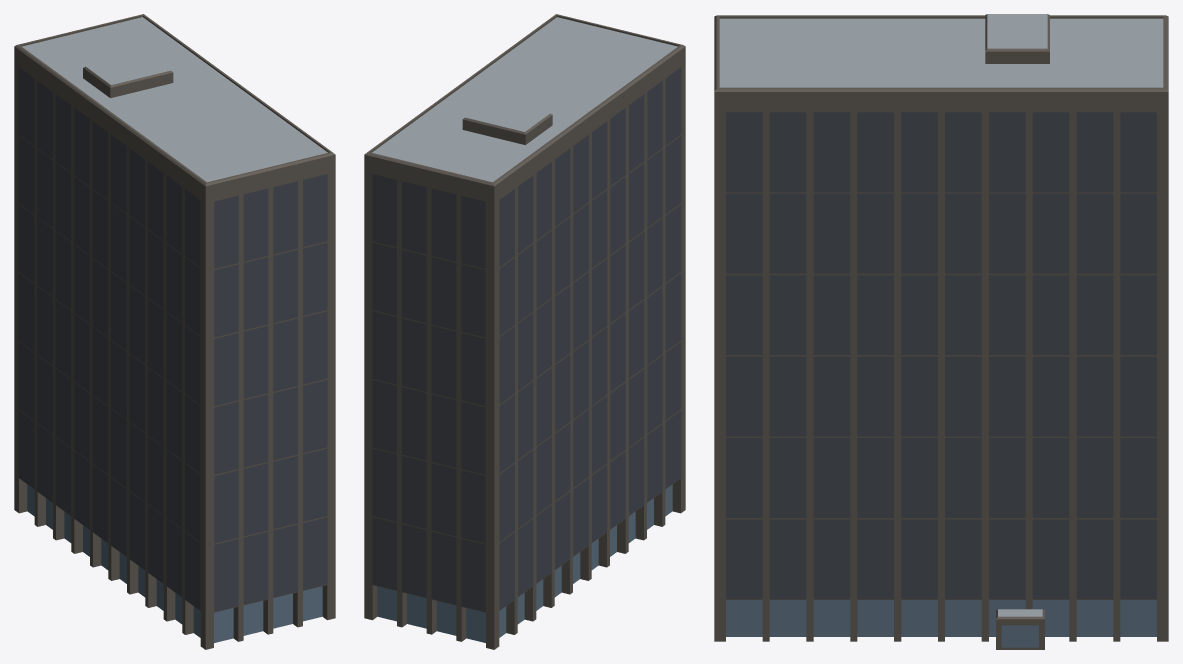
File: cola-tower-at-1301-gervais.glb
The picture shows the model from 3 angles, left to right: view 1: azimuth 30°, elevation 25°; view 2: azimuth 150°, elevation 25°; view 3: azimuth 270°, elevation 25°; orthographic projection. The views are drawn at different scales.
Parts seen in each view (by area): view 1: Tower at 1301 Gervais; view 2: Tower at 1301 Gervais; view 3: Tower at 1301 Gervais.
Boxes of the visible parts, x1,y1,x2,y2 form: Tower at 1301 Gervais: (14,14,335,649); Tower at 1301 Gervais: (364,14,685,649); Tower at 1301 Gervais: (714,14,1168,649).
Size of the model in its own units: 27.62 by 86.6 by 63.27.
